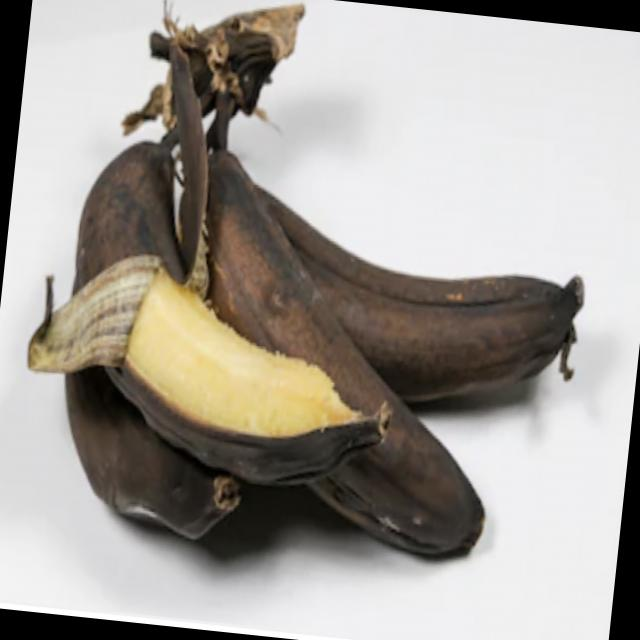rotten-banana: (70, 86, 402, 470), (182, 164, 498, 562), (227, 111, 619, 418)
